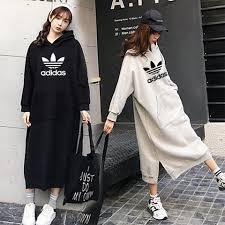dress: (109, 42, 213, 184), (21, 37, 89, 192)
